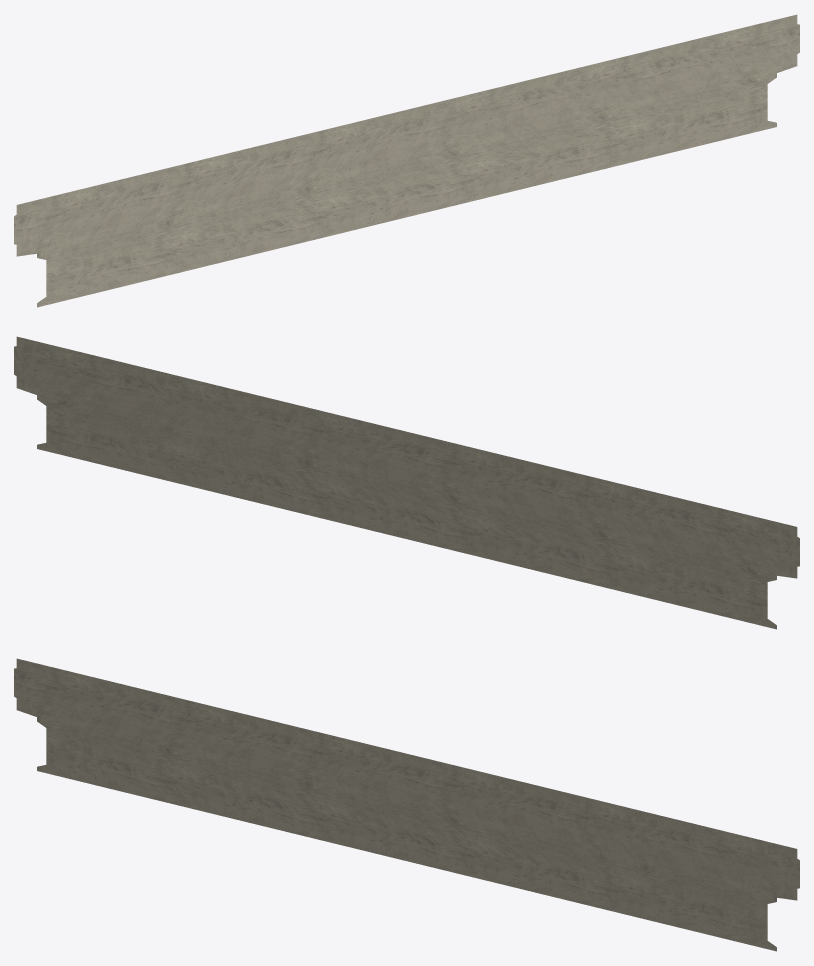
Rendered from BridgeBase9-6L-Cap.FBX.
The picture shows the model from 3 angles, top to bottom: view 1: azimuth 30°, elevation 25°; view 2: azimuth 150°, elevation 25°; view 3: azimuth 330°, elevation 25°; orthographic projection.
Visible parts, largest first — view 1: BridgeBase9-6L-Cap; view 2: BridgeBase9-6L-Cap; view 3: BridgeBase9-6L-Cap.
Boxes of the visible parts, bbox=[...] form: BridgeBase9-6L-Cap: bbox=[14, 14, 799, 307]; BridgeBase9-6L-Cap: bbox=[14, 336, 799, 629]; BridgeBase9-6L-Cap: bbox=[14, 658, 799, 951].
Size of the model in its own units: 38.25 by 5 by 2.97e-06.
